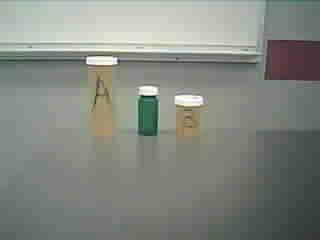Bottle A: (81, 52, 124, 144)
Bottle B: (173, 92, 206, 142)
Bottle C: (134, 83, 165, 141)
